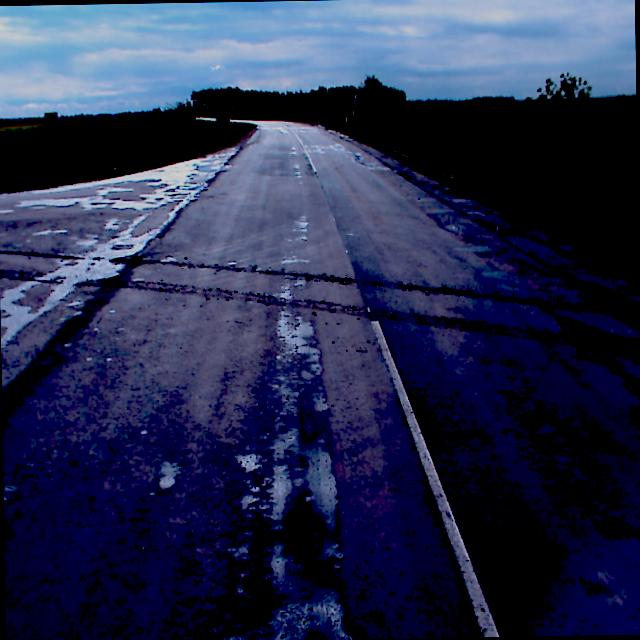road: (0, 119, 640, 640)
